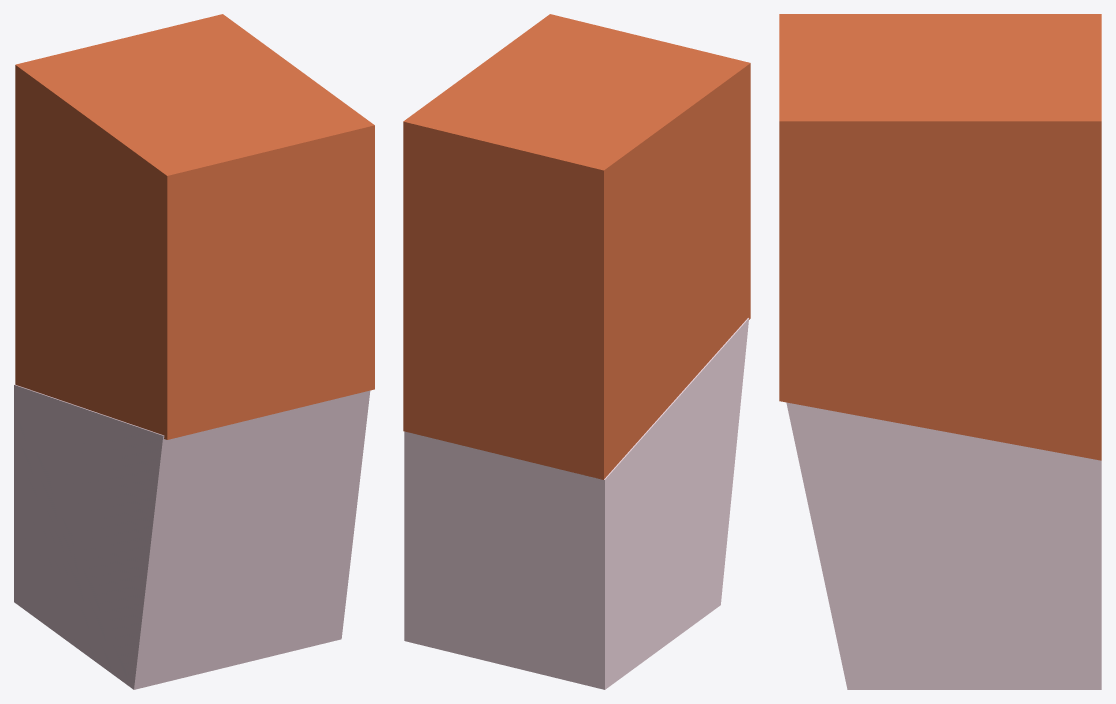
The model's file is kabe.fbx.
The picture shows the model from 3 angles, left to right: view 1: azimuth 30°, elevation 25°; view 2: azimuth 150°, elevation 25°; view 3: azimuth 270°, elevation 25°; orthographic projection. The views are drawn at different scales.
Visible parts, largest first — view 1: Cube; view 2: Cube; view 3: Cube.
Part boxes in pixels (<box>): Cube: <box>14,14,374,689</box>; Cube: <box>403,14,750,689</box>; Cube: <box>779,14,1101,689</box>.
Bounding box in the file's own units: 603 × 1483 × 761.
